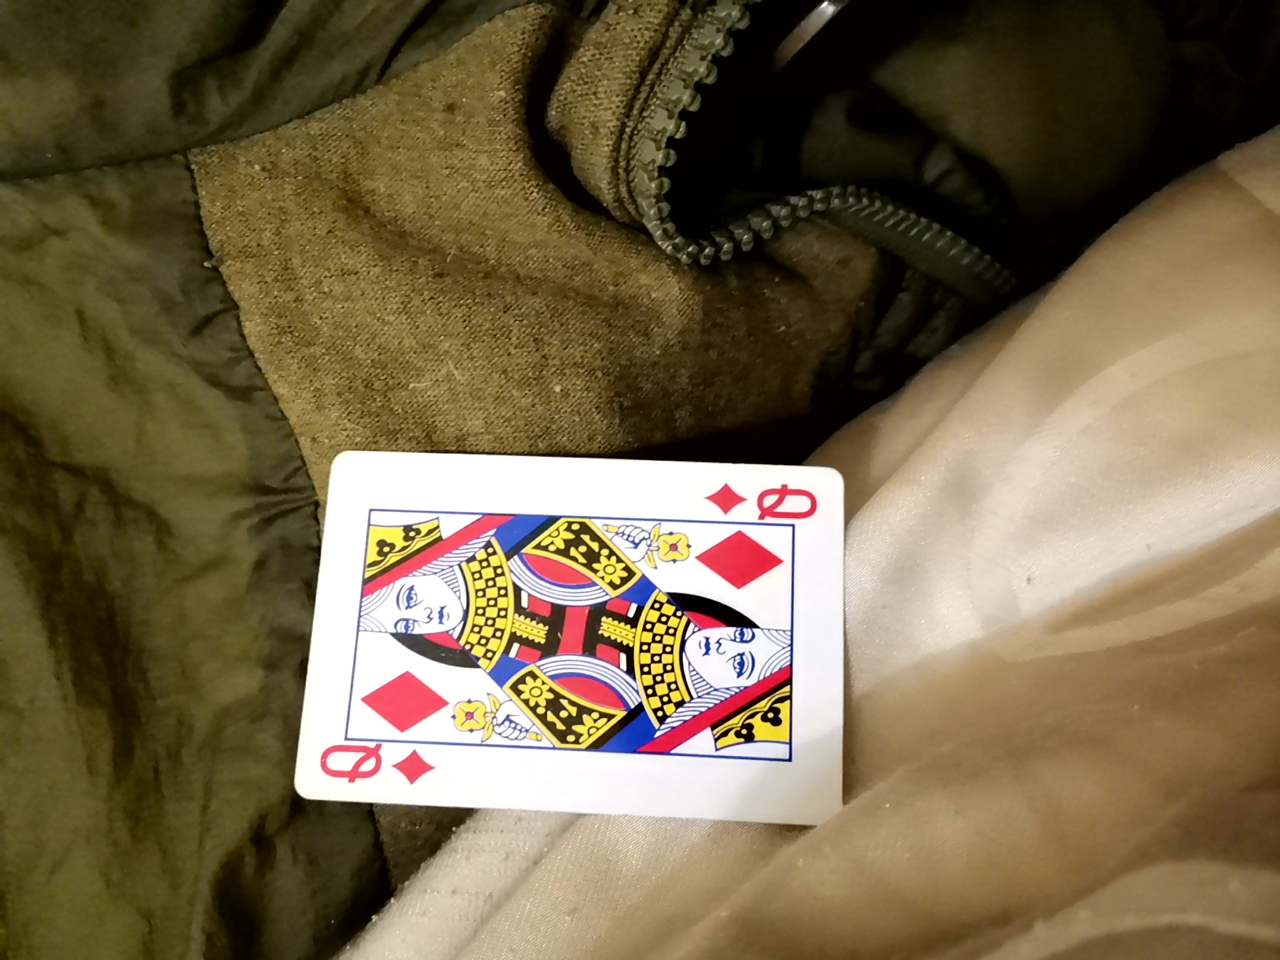fk q: (304, 436, 852, 830)
